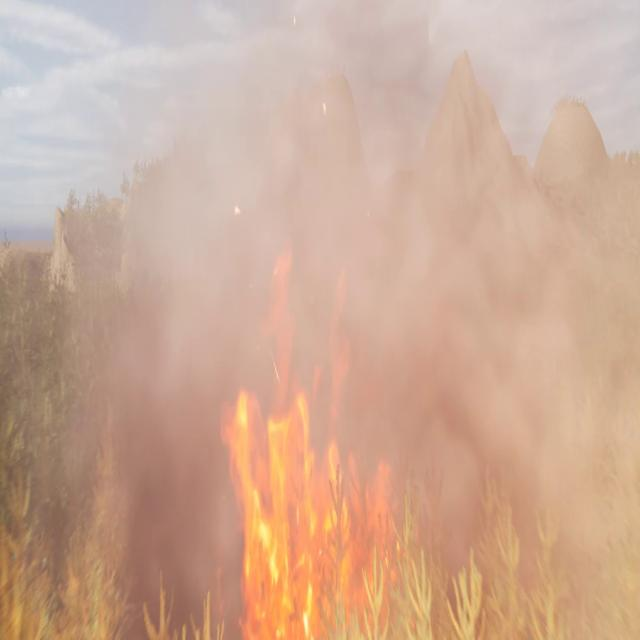fire: (220, 243, 404, 639)
smoke: (21, 6, 640, 639)
